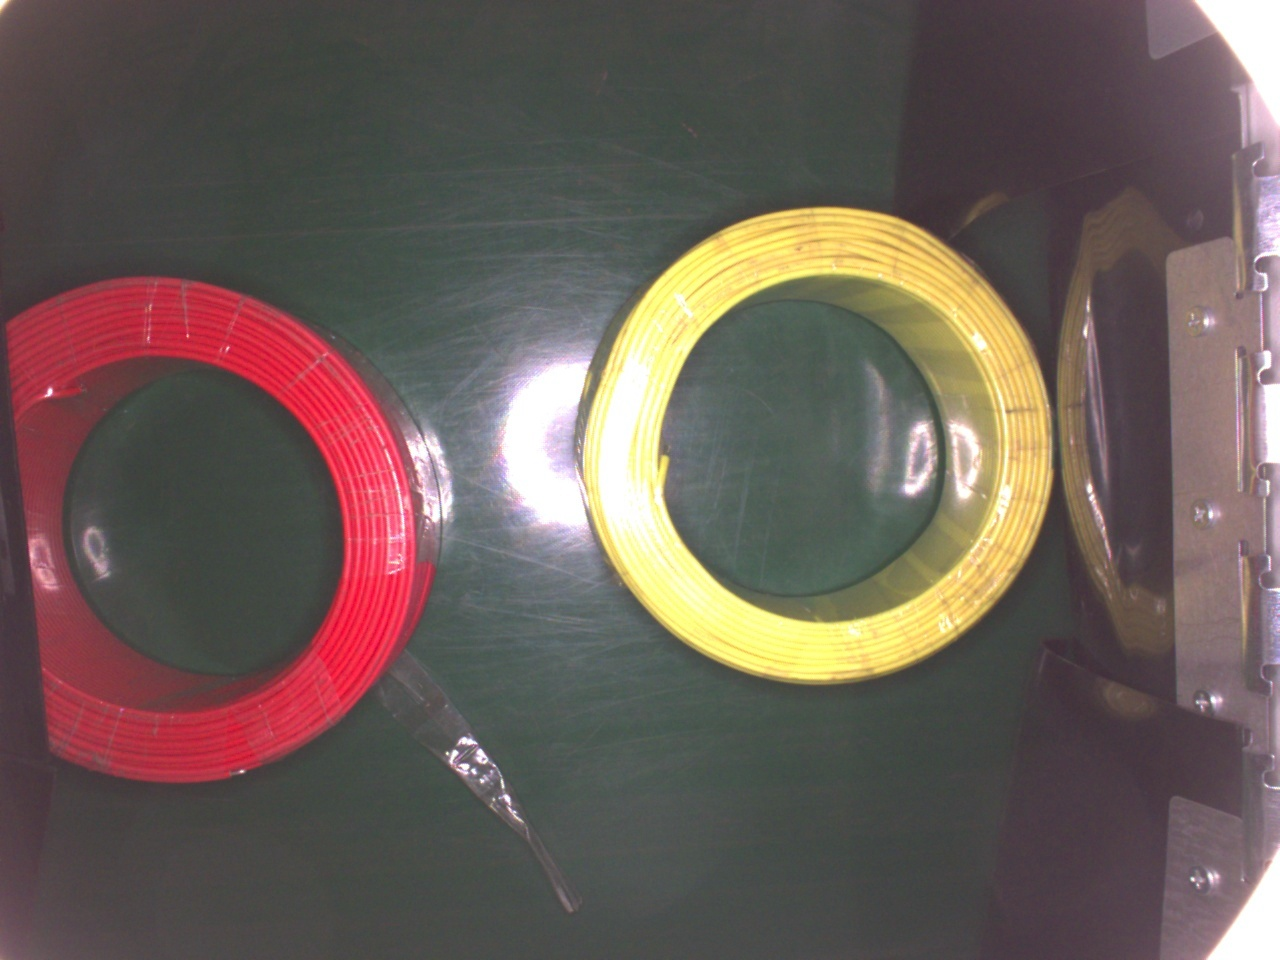red: (8, 275, 438, 787)
yellow: (573, 205, 1053, 688)
